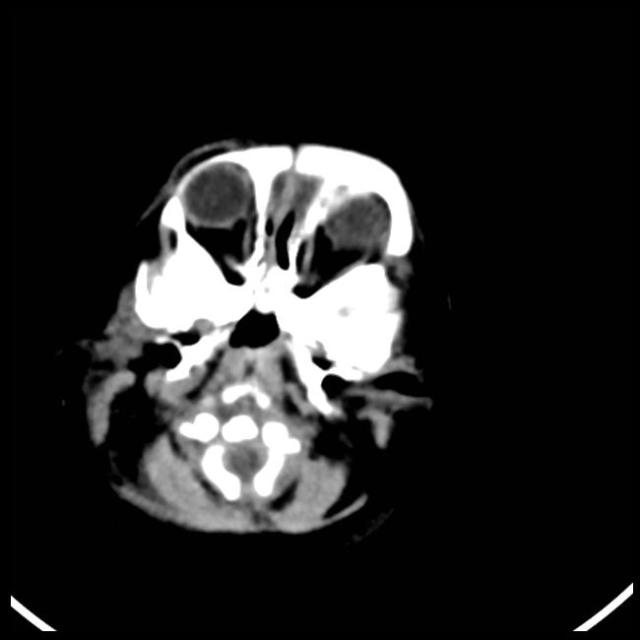lesion: (71, 132, 440, 544)
